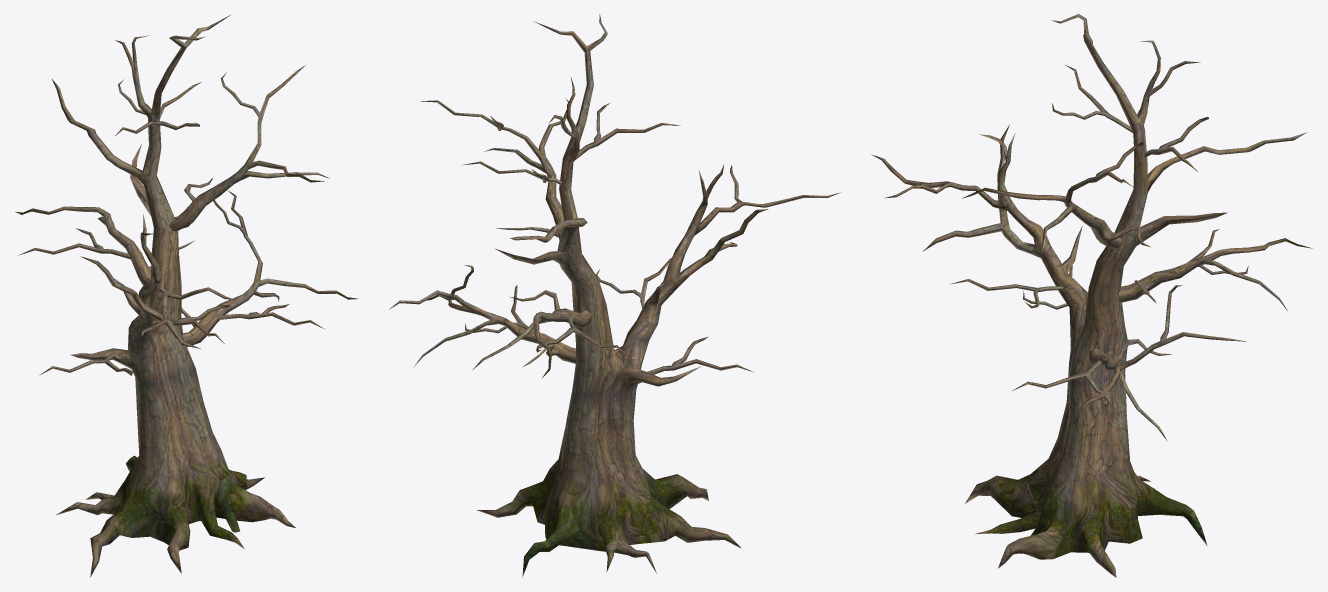
Rendered from shi_gan_08.FBX.
3 views of the same model, side by side, from view 1: azimuth 30°, elevation 25°; view 2: azimuth 150°, elevation 25°; view 3: azimuth 270°, elevation 25° (orthographic). The views are drawn at different scales.
Parts seen in each view (by area): view 1: shi_gan_09; view 2: shi_gan_09; view 3: shi_gan_09.
Part boxes in pixels (<box>): shi_gan_09: <box>15,14,358,576</box>; shi_gan_09: <box>389,14,840,577</box>; shi_gan_09: <box>871,14,1312,577</box>.
Size of the model in its own units: 48.15 by 70.65 by 53.77.
